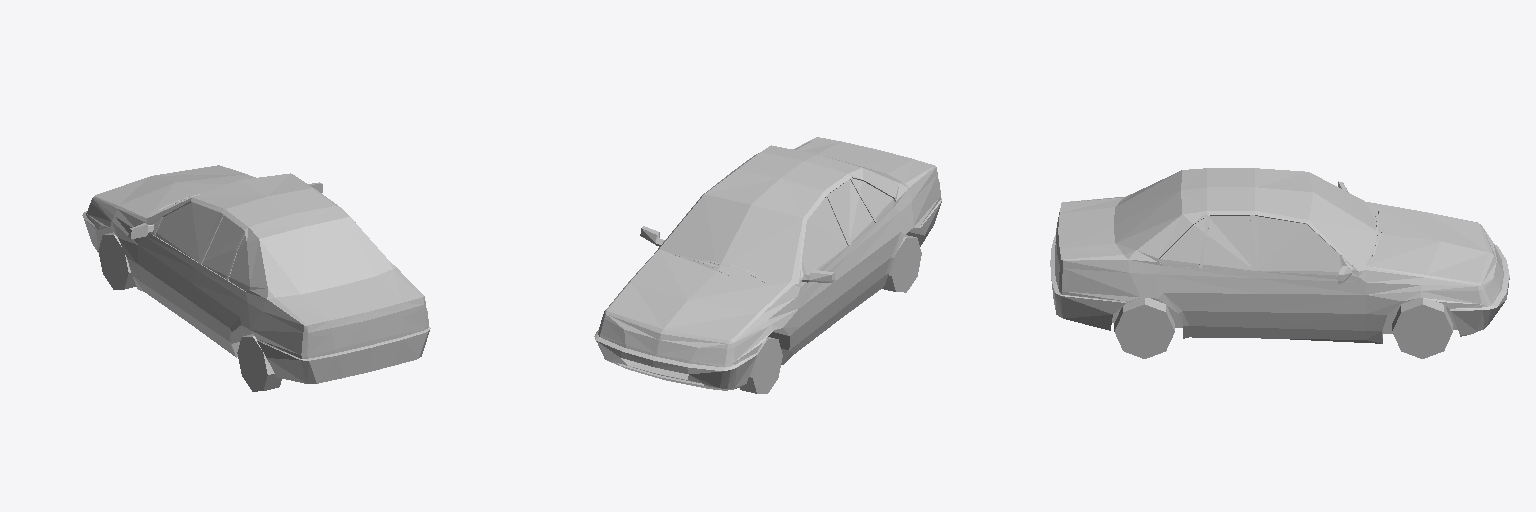
File: Car1.obj
3 views of the same model, side by side, from view 1: azimuth 30°, elevation 25°; view 2: azimuth 150°, elevation 25°; view 3: azimuth 270°, elevation 25° (orthographic).
Visible parts, largest first — view 1: Body1, Glass1, Wheel2, Wheel1, BackLight1; view 2: Body1, Glass1, Wheel1, Wheel2, HeadLight1; view 3: Body1, Glass1, Wheel3, Wheel4, UnderCar1.
Part boxes in pixels (bbox=[...]): Body1: bbox=[82, 165, 430, 383]; Glass1: bbox=[156, 202, 392, 297]; Wheel2: bbox=[237, 334, 281, 391]; Wheel1: bbox=[98, 232, 136, 289]; BackLight1: bbox=[297, 334, 335, 355]; Body1: bbox=[594, 137, 941, 390]; Glass1: bbox=[660, 154, 902, 280]; Wheel1: bbox=[740, 337, 782, 393]; Wheel2: bbox=[882, 235, 921, 292]; HeadLight1: bbox=[690, 348, 734, 364]; Body1: bbox=[1050, 168, 1509, 343]; Glass1: bbox=[1114, 170, 1380, 274]; Wheel3: bbox=[1114, 298, 1174, 358]; Wheel4: bbox=[1392, 298, 1452, 358]; UnderCar1: bbox=[1112, 298, 1457, 343].
Size of the model in its own units: 213 by 145 by 441.